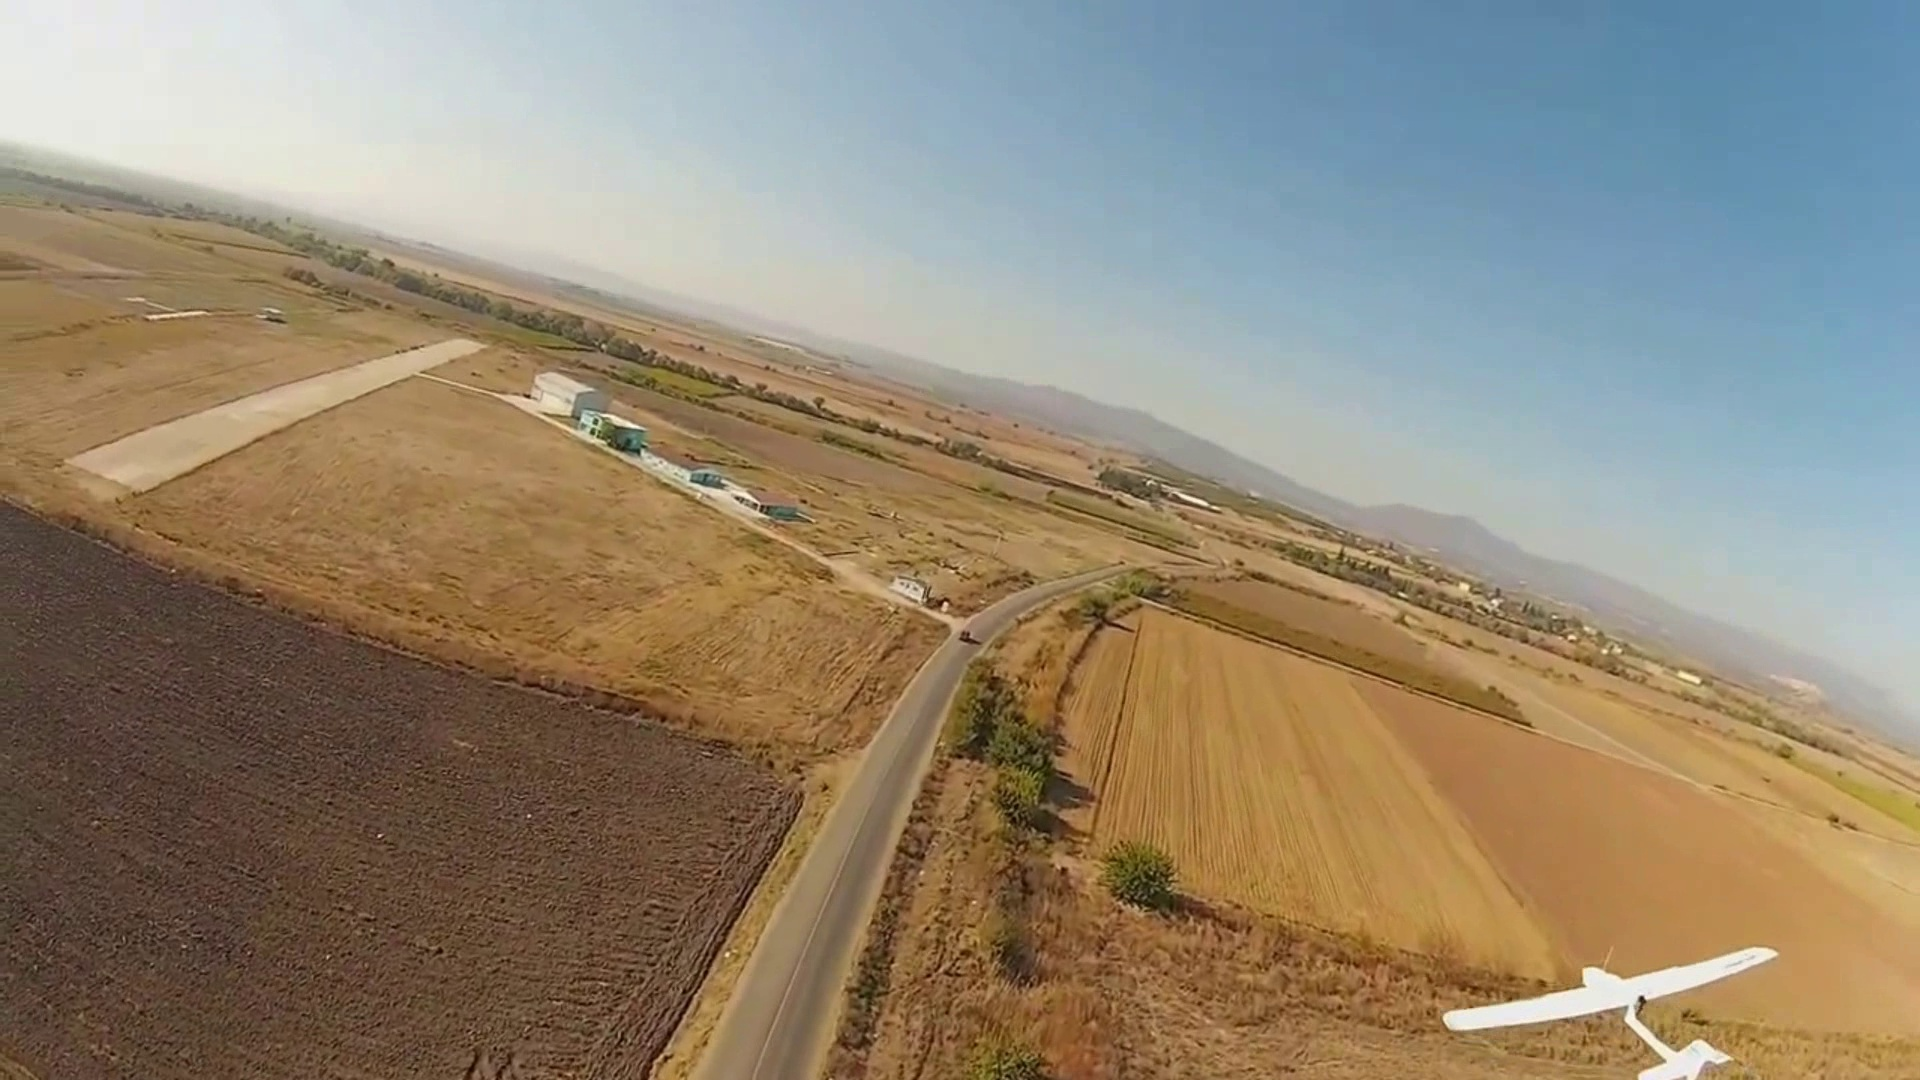airplane: (1439, 947, 1780, 1073)
